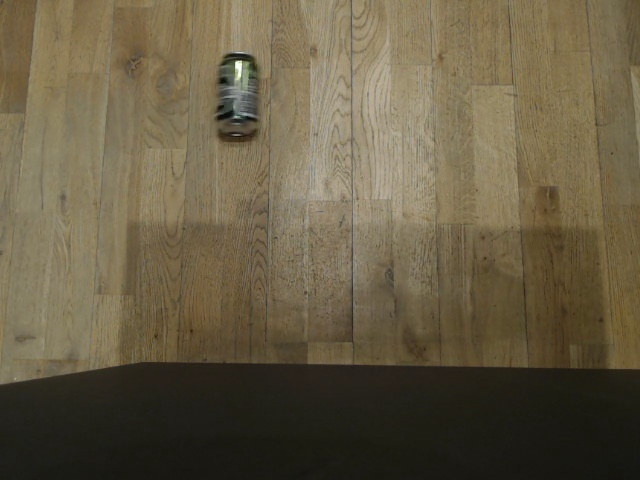beer: (212, 50, 263, 142)
